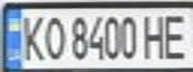0: (118, 11, 142, 60), (103, 12, 124, 61)
4: (87, 11, 106, 61)
8: (66, 12, 90, 61)
E: (160, 10, 193, 61)
H: (139, 11, 172, 61)
K: (18, 11, 48, 62)
O: (39, 11, 69, 62)
